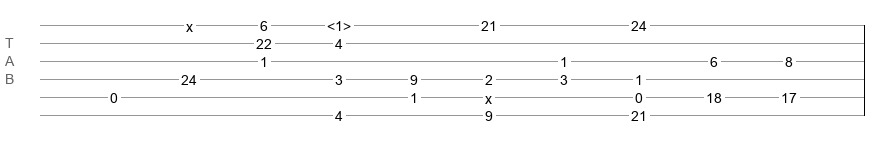0: (110, 90, 118, 100), (635, 90, 643, 100)
1: (260, 54, 268, 64), (410, 90, 418, 100), (560, 54, 568, 64), (635, 72, 643, 82)
17: (781, 90, 797, 100)
18: (706, 90, 722, 100)
2: (485, 72, 493, 82)
21: (481, 18, 497, 28), (631, 108, 647, 118)
22: (256, 36, 272, 46)
24: (181, 72, 197, 82), (631, 18, 647, 28)
3: (335, 72, 343, 82), (560, 72, 568, 82)
4: (335, 108, 343, 118), (335, 36, 343, 46)
6: (260, 18, 268, 28), (710, 54, 718, 64)
8: (785, 54, 793, 64)
9: (410, 72, 418, 82), (485, 108, 493, 118)
harmonic: (327, 18, 351, 28)
x: (186, 19, 193, 27), (485, 91, 492, 99)
